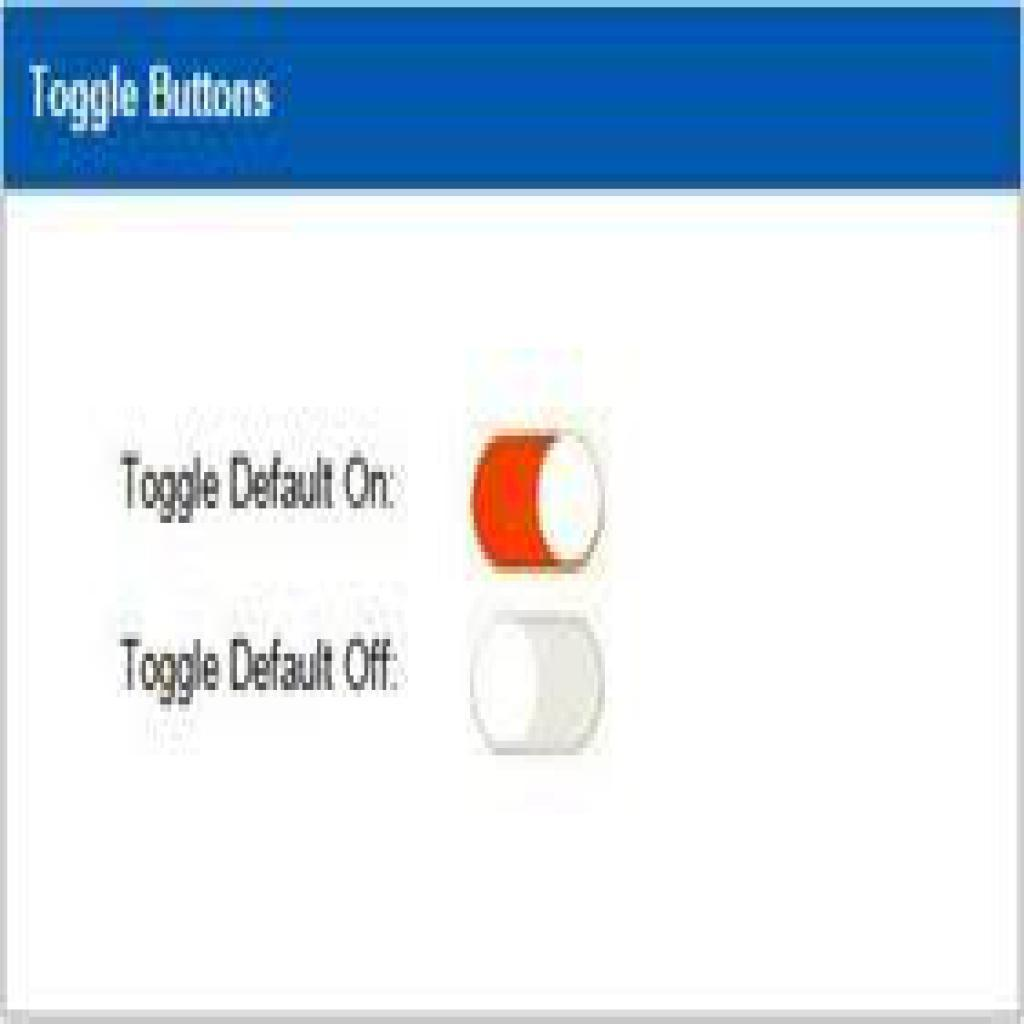label: (115, 631, 406, 703), (115, 445, 401, 516)
switch: (469, 430, 611, 582), (473, 615, 610, 754)
